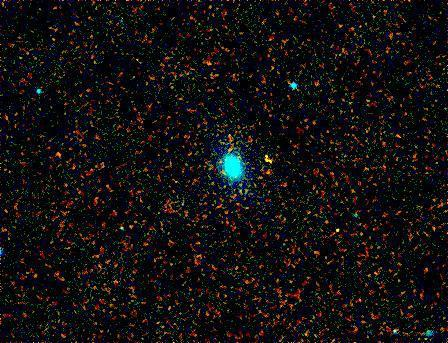star: (252, 143, 282, 173)
